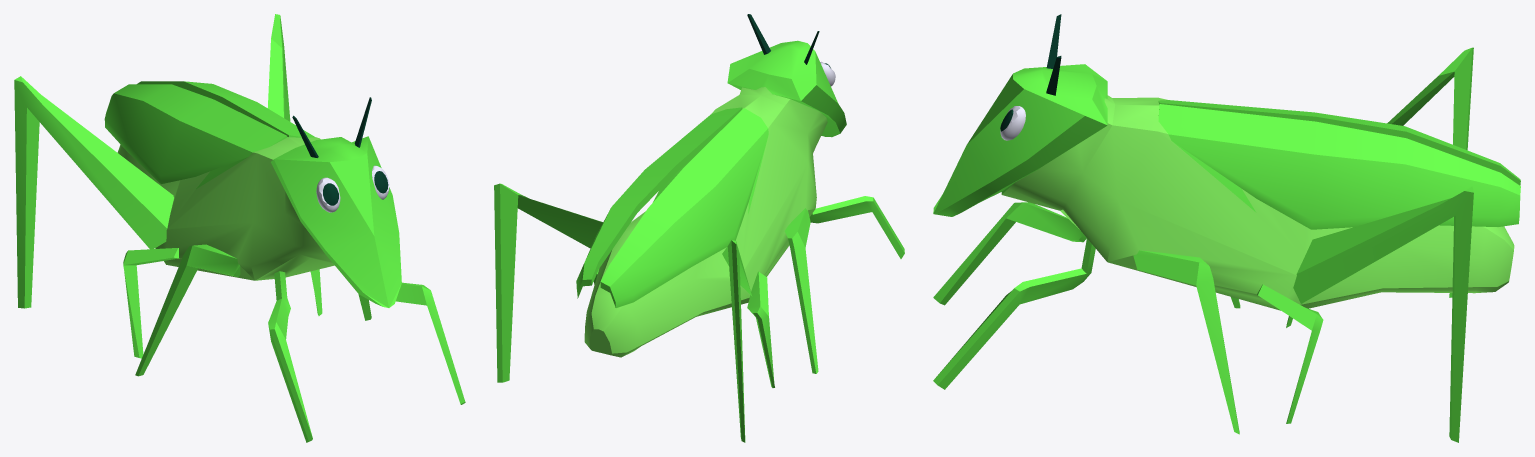
File: 蝗虫动画.fbx
The picture shows the model from 3 angles, left to right: view 1: azimuth 30°, elevation 25°; view 2: azimuth 150°, elevation 25°; view 3: azimuth 270°, elevation 25°; orthographic projection. The views are drawn at different scales.
Visible parts, largest first — view 1: 蝗虫; view 2: 蝗虫; view 3: 蝗虫.
Part boxes in pixels (x1=…): 蝗虫: x1=14, y1=14, x2=465, y2=442; 蝗虫: x1=494, y1=14, x2=904, y2=442; 蝗虫: x1=933, y1=14, x2=1520, y2=442.
Bounding box in the file's own units: 102 × 110 × 171.
